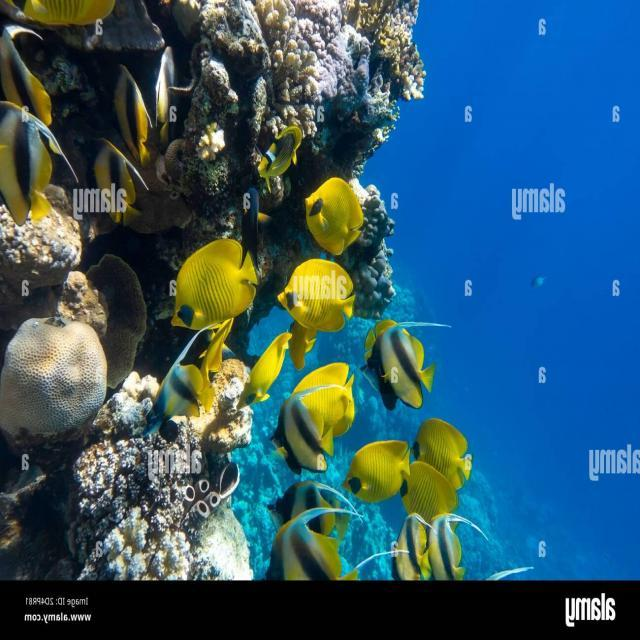ButterflyFish: (269, 334, 370, 479), (142, 235, 264, 338), (362, 298, 450, 422), (262, 506, 386, 585), (152, 338, 225, 441), (304, 161, 390, 248), (276, 255, 366, 327), (77, 80, 165, 150), (424, 511, 494, 594), (244, 470, 356, 520), (74, 146, 154, 215), (416, 392, 484, 473), (342, 428, 419, 499), (138, 40, 189, 146), (4, 0, 116, 46), (378, 506, 439, 588), (0, 54, 64, 130), (404, 451, 466, 528), (238, 340, 292, 420)
